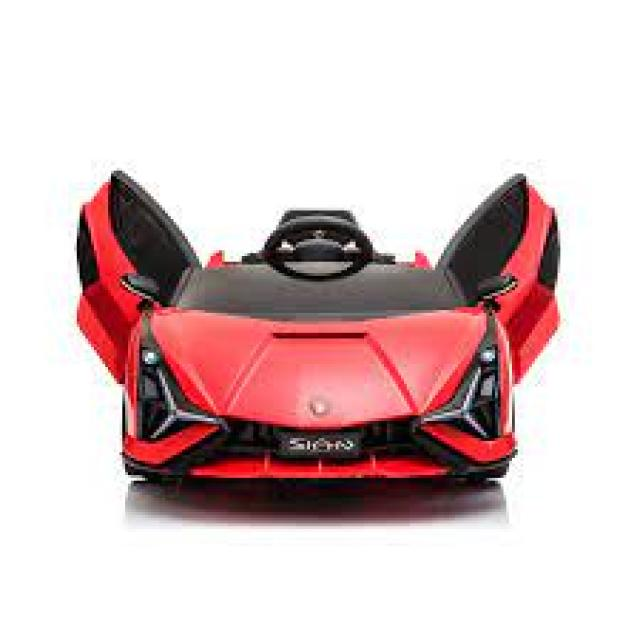Car: (71, 165, 560, 489)
